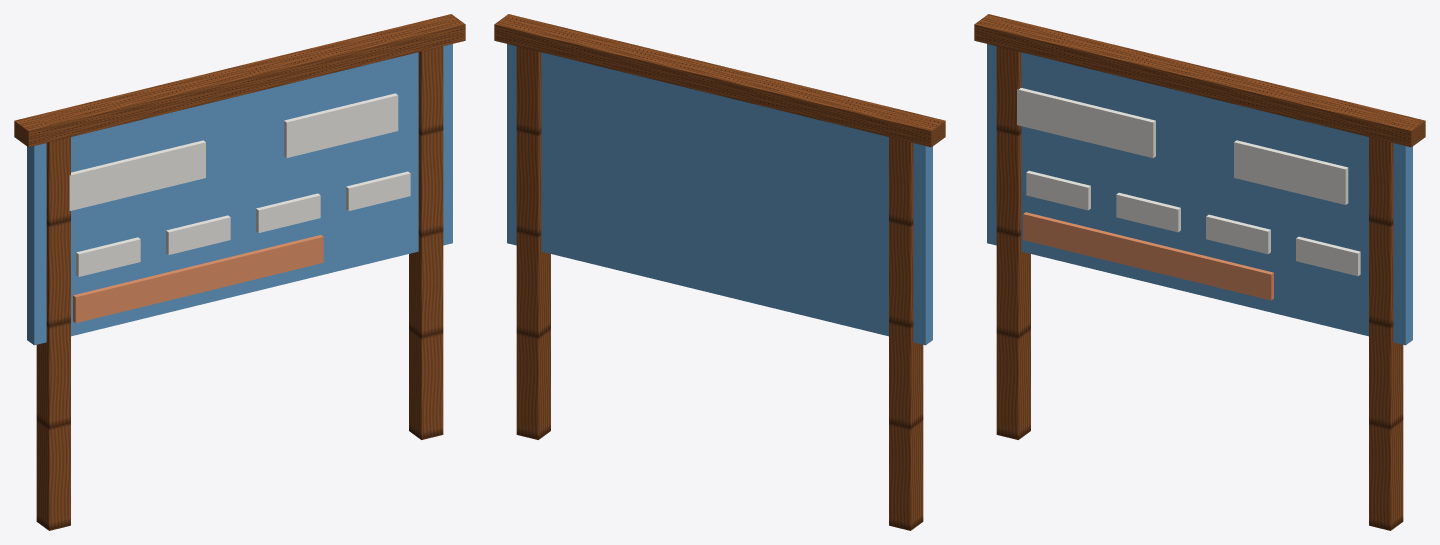
Rendered from caravan-park-and-campsite-site-entrance-sign-2d4eea35__35380.glb.
3 views of the same model, side by side, from view 1: azimuth 30°, elevation 25°; view 2: azimuth 150°, elevation 25°; view 3: azimuth 330°, elevation 25° (orthographic).
Visible parts, largest first — view 1: site-entrance-sign-azure, site-entrance-sign-timber, site-entrance-sign-shell, site-entrance-sign-flame; view 2: site-entrance-sign-azure, site-entrance-sign-timber; view 3: site-entrance-sign-azure, site-entrance-sign-timber, site-entrance-sign-shell, site-entrance-sign-flame.
Part boxes in pixels (x1=…): site-entrance-sign-azure: x1=27, y1=44, x2=452, y2=345; site-entrance-sign-timber: x1=14, y1=14, x2=465, y2=530; site-entrance-sign-shell: x1=69, y1=93, x2=410, y2=276; site-entrance-sign-flame: x1=73, y1=235, x2=323, y2=323; site-entrance-sign-azure: x1=507, y1=44, x2=932, y2=345; site-entrance-sign-timber: x1=494, y1=14, x2=945, y2=530; site-entrance-sign-azure: x1=987, y1=44, x2=1412, y2=345; site-entrance-sign-timber: x1=974, y1=14, x2=1425, y2=530; site-entrance-sign-shell: x1=1017, y1=88, x2=1360, y2=276; site-entrance-sign-flame: x1=1023, y1=212, x2=1273, y2=300.
Size of the model in its own units: 2.82 by 2.5 by 0.1601.
4 materials, 1 textured.
